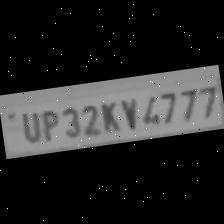2: (76, 100, 101, 137)
3: (56, 102, 82, 140)
4: (135, 91, 161, 129)
7: (194, 82, 220, 120), (174, 86, 199, 123), (156, 88, 180, 126)
K: (95, 97, 120, 134)
P: (36, 107, 60, 143)
U: (14, 108, 42, 146)
V: (115, 95, 140, 133)
